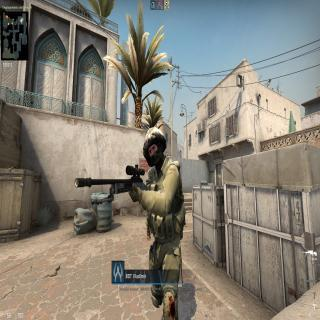CT-Head: (142, 124, 168, 169)
